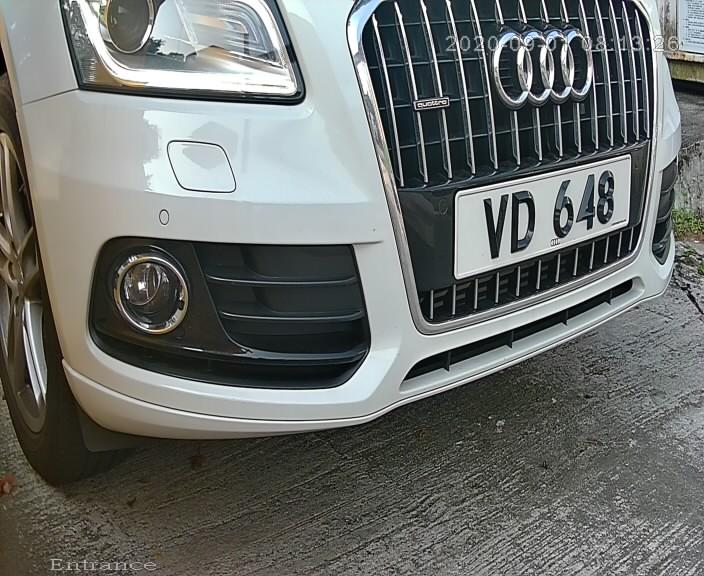License Plate: (428, 111, 673, 294)
